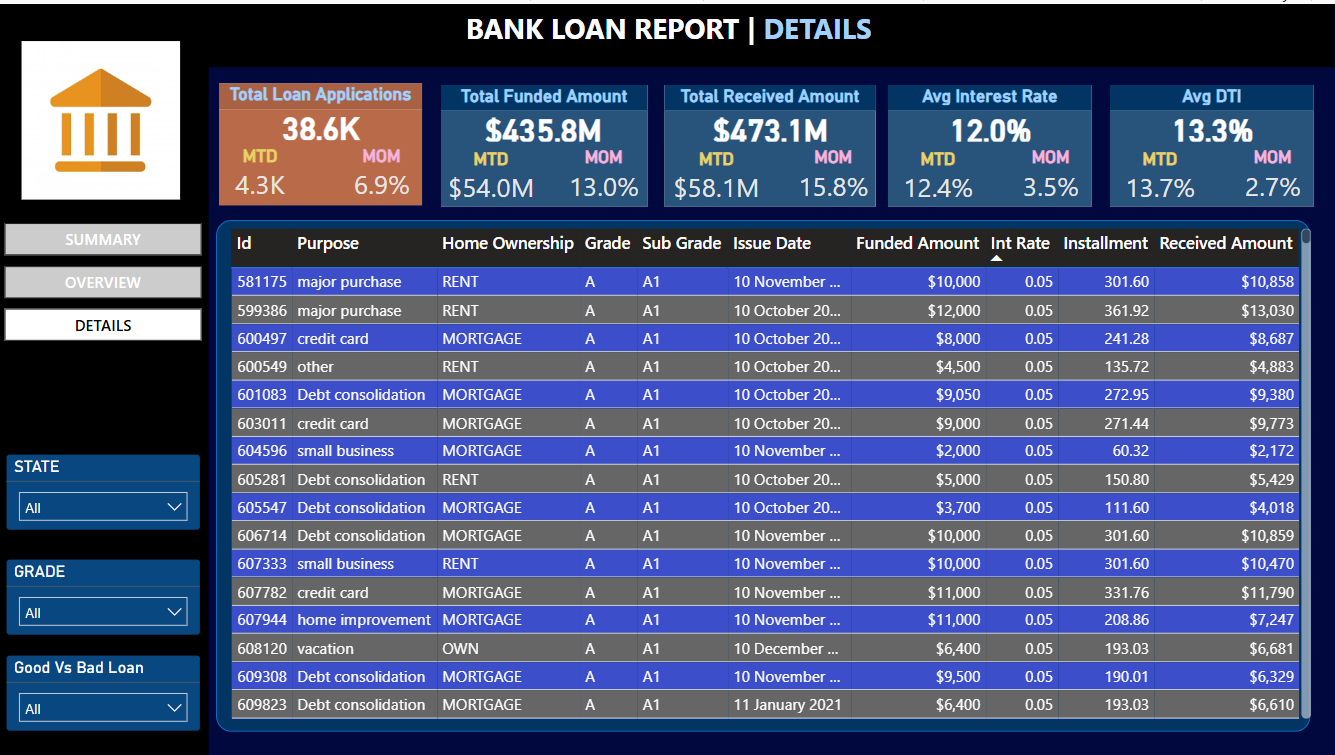

Layout of this report page (visuals, bound fields, positions):
{"tool":"powerbi","page":{"name":"DETAILS","canvas":[1280,720],"ordinal":2},"visuals":[{"type":"shape","box":[0,0,1279.4,60.5],"z":0},{"type":"shape","title":"Total Loan Applications","box":[210.5,75.7,195,116.6],"z":0,"group":"g1"},{"type":"shape","title":"Total Funded Amount","box":[422.7,77.2,198,116.6],"z":0,"group":"g2"},{"type":"shape","title":"Total Received Amount","box":[637.4,77.2,202.5,116.6],"z":0,"group":"g3"},{"type":"shape","title":"Avg Interest Rate","box":[852,77.2,195.3,116.6],"z":0,"group":"g4"},{"type":"shape","title":"Avg DTI","box":[1064.4,77.2,195.3,116.6],"z":0,"group":"g5"},{"type":"shape","box":[0,60.5,200,659.5],"z":1000},{"type":"card","fields":{"Values":["banking_project bank_loan_data.Total Loan Applications"]},"box":[210.5,98.4,195,36.3],"z":1000,"group":"g1"},{"type":"card","fields":{"Values":["banking_project bank_loan_data.Total Funded Amount"]},"box":[422.7,99.9,195.3,36.3],"z":1000,"group":"g2"},{"type":"card","fields":{"Values":["banking_project bank_loan_data.Total Received Amount"]},"box":[637.4,99.9,202.5,36.3],"z":1000,"group":"g3"},{"type":"card","fields":{"Values":["banking_project bank_loan_data.AVG Interest Rate"]},"box":[852,99.9,195.3,36.3],"z":1000,"group":"g4"},{"type":"card","fields":{"Values":["banking_project bank_loan_data.AVG DTI"]},"box":[1064.4,99.9,195.3,36.3],"z":1000,"group":"g5"},{"type":"textbox","box":[417.9,0,445.2,60.6],"z":2000},{"type":"card","title":"MTD","fields":{"Values":["banking_project bank_loan_data.MTD Loan Applications"]},"box":[210.5,134.8,78.6,57.5],"z":2000,"group":"g1"},{"type":"card","title":"MTD","fields":{"Values":["banking_project bank_loan_data.MTD Funded Amount"]},"box":[421.3,138.2,98.4,57.5],"z":2000,"group":"g2"},{"type":"card","title":"MTD","fields":{"Values":["banking_project bank_loan_data.MTD Total Received Amount"]},"box":[636,138.2,102,57.5],"z":2000,"group":"g3"},{"type":"card","title":"MTD","fields":{"Values":["banking_project bank_loan_data.MTD AVG Interest Rate"]},"box":[850.6,138.2,98.4,57.5],"z":2000,"group":"g4"},{"type":"card","title":"MTD","fields":{"Values":["banking_project bank_loan_data.MTD Avg DTI"]},"box":[1063,138.2,98.4,57.5],"z":2000,"group":"g5"},{"type":"group","id":"g1","title":"Group 1","box":[210.5,75.7,195.3,116.6],"z":3000},{"type":"card","title":"MOM","fields":{"Values":["banking_project bank_loan_data.MOM Loan Application"]},"box":[326.9,134.8,78.6,57.5],"z":3000,"group":"g1"},{"type":"card","title":"MOM","fields":{"Values":["banking_project bank_loan_data.MOM Total Funded Amount"]},"box":[539.3,136.3,78.7,57.5],"z":3000,"group":"g2"},{"type":"card","title":"MOM","fields":{"Values":["banking_project bank_loan_data.MOM Total Received Amount"]},"box":[758.3,136.3,81.6,57.5],"z":3000,"group":"g3"},{"type":"card","title":"MOM","fields":{"Values":["banking_project bank_loan_data.MOM Avg Interest Rate"]},"box":[968.6,136.3,78.7,57.5],"z":3000,"group":"g4"},{"type":"card","title":"MOM","fields":{"Values":["banking_project bank_loan_data.MOM Avg DTI"]},"box":[1181,136.3,78.7,57.5],"z":3000,"group":"g5"},{"type":"group","id":"g2","title":"Group 1","box":[421.3,77.2,199.9,118.1],"z":4000},{"type":"group","id":"g3","title":"Group 1","box":[636,77.2,204.4,118.1],"z":5000},{"type":"group","id":"g4","title":"Group 1","box":[850.6,77.2,196.8,118.1],"z":6000},{"type":"group","id":"g5","title":"Group 1","box":[1063,77.2,196.8,118.1],"z":7000},{"type":"shape","box":[206.9,207.4,1049.3,490.6],"z":8000,"group":"g6"},{"type":"textbox","box":[263.5,207.4,174.1,36.3],"z":8000},{"type":"group","id":"g6","title":"Group 2","box":[206.9,207.4,1054.7,490.6],"z":9000},{"type":"slicer","title":"STATE","fields":{"Values":["banking_project bank_loan_data.address_state"]},"box":[4.5,430,189.3,75.7],"z":10000},{"type":"slicer","title":"GRADE","fields":{"Values":["banking_project bank_loan_data.grade"]},"box":[4.5,530,189.3,75.7],"z":11000},{"type":"slicer","title":"Good Vs Bad Loan","fields":{"Values":["banking_project bank_loan_data.Good Vs Bad Loans"]},"box":[4.5,622.3,189.3,75.7],"z":12000},{"type":"tableEx","fields":{"Values":["banking_project bank_loan_data.id","banking_project bank_loan_data.purpose","banking_project bank_loan_data.home_ownership","banking_project bank_loan_data.grade","banking_project bank_loan_data.sub_grade","banking_project bank_loan_data.issue_date","banking_project bank_loan_data.Total Funded Amount","Sum(banking_project bank_loan_data.int_rate)","Sum(banking_project bank_loan_data.installment)","banking_project bank_loan_data.Total Received Amount"]},"box":[215.3,209.8,1046.3,480],"z":13001,"group":"g6"},{"type":"image","box":[0,30.3,193.8,162],"z":13002},{"type":"pageNavigator","box":[4.5,210.5,189.3,115.1],"z":13003}]}

Visuals, with their boxes in screenshot pixels (x1, y1, x2, y2), scaled from the page's 1280x720 canvas onto the 1335x755 screenshot:
shape: <bbox>0, 0, 1334, 63</bbox>
"Total Loan Applications" shape: <bbox>220, 79, 423, 202</bbox>
"Total Funded Amount" shape: <bbox>441, 81, 647, 203</bbox>
"Total Received Amount" shape: <bbox>665, 81, 876, 203</bbox>
"Avg Interest Rate" shape: <bbox>889, 81, 1092, 203</bbox>
"Avg DTI" shape: <bbox>1110, 81, 1314, 203</bbox>
shape: <bbox>0, 63, 209, 754</bbox>
card - banking_project bank_loan_data.Total Loan Applications: <bbox>220, 103, 423, 141</bbox>
card - banking_project bank_loan_data.Total Funded Amount: <bbox>441, 105, 645, 143</bbox>
card - banking_project bank_loan_data.Total Received Amount: <bbox>665, 105, 876, 143</bbox>
card - banking_project bank_loan_data.AVG Interest Rate: <bbox>889, 105, 1092, 143</bbox>
card - banking_project bank_loan_data.AVG DTI: <bbox>1110, 105, 1314, 143</bbox>
textbox: <bbox>436, 0, 900, 64</bbox>
"MTD" card: <bbox>220, 141, 302, 202</bbox>
"MTD" card: <bbox>439, 145, 542, 205</bbox>
"MTD" card: <bbox>663, 145, 770, 205</bbox>
"MTD" card: <bbox>887, 145, 990, 205</bbox>
"MTD" card: <bbox>1109, 145, 1211, 205</bbox>
"Group 1" group: <bbox>220, 79, 423, 202</bbox>
"MOM" card: <bbox>341, 141, 423, 202</bbox>
"MOM" card: <bbox>562, 143, 645, 203</bbox>
"MOM" card: <bbox>791, 143, 876, 203</bbox>
"MOM" card: <bbox>1010, 143, 1092, 203</bbox>
"MOM" card: <bbox>1232, 143, 1314, 203</bbox>
"Group 1" group: <bbox>439, 81, 648, 205</bbox>
"Group 1" group: <bbox>663, 81, 877, 205</bbox>
"Group 1" group: <bbox>887, 81, 1092, 205</bbox>
"Group 1" group: <bbox>1109, 81, 1314, 205</bbox>
shape: <bbox>216, 217, 1310, 732</bbox>
textbox: <bbox>275, 217, 456, 256</bbox>
"Group 2" group: <bbox>216, 217, 1316, 732</bbox>
"STATE" slicer: <bbox>5, 451, 202, 530</bbox>
"GRADE" slicer: <bbox>5, 556, 202, 635</bbox>
"Good Vs Bad Loan" slicer: <bbox>5, 653, 202, 732</bbox>
tableEx - banking_project bank_loan_data.id x banking_project bank_loan_data.purpose: <bbox>225, 220, 1316, 723</bbox>
image: <bbox>0, 32, 202, 202</bbox>
pageNavigator: <bbox>5, 221, 202, 341</bbox>
